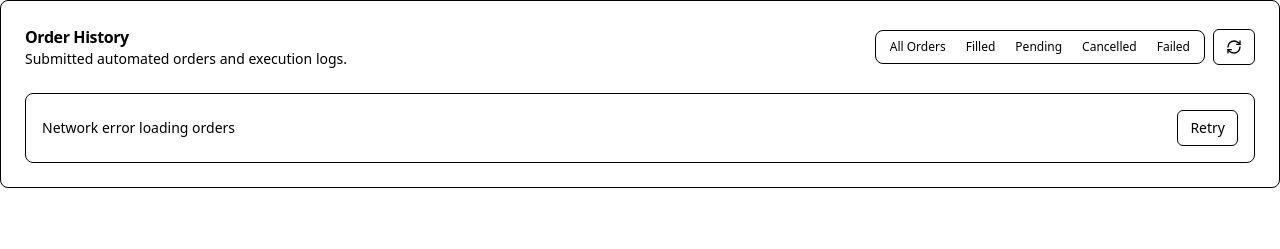
Scenario: OrdersTable › renders error state when fetch fails and allows retry
Expected: the text "Network error loading orders" is shown, x1=42 y1=118 x2=235 y2=138
Click the button "Retry". click: x=1208, y=128
box: x1=1177 y1=110 x2=1238 y2=146
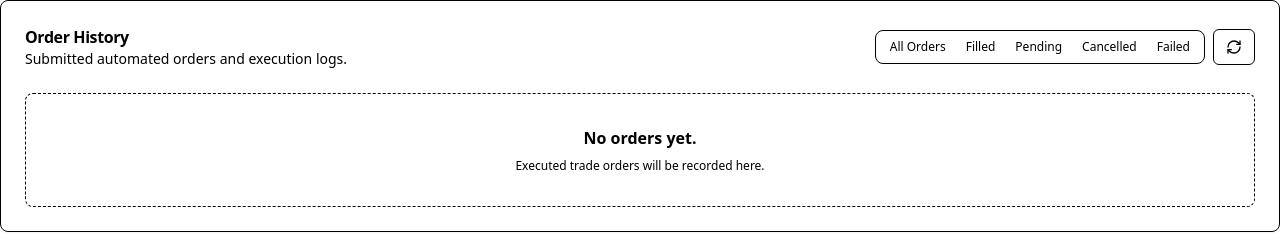
Result: the text "No orders yet." is shown at x1=584 y1=127 x2=696 y2=149
